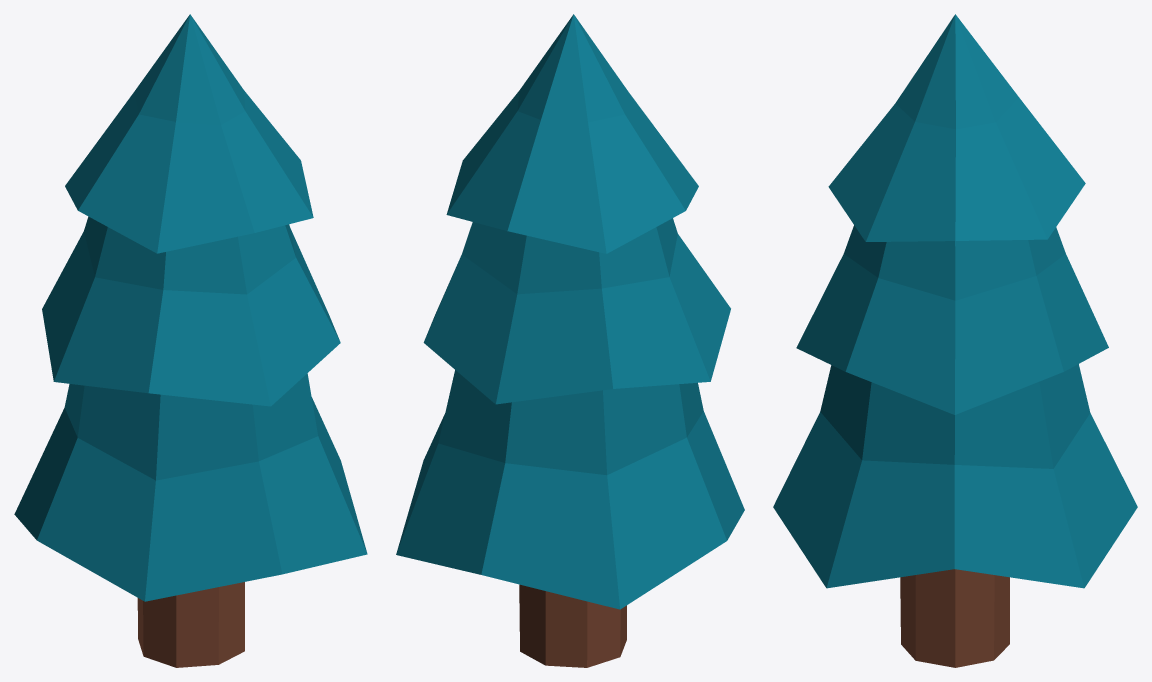
Rendered from Tree_01_summer_blue_vc.fbx.
The picture shows the model from 3 angles, left to right: view 1: azimuth 30°, elevation 25°; view 2: azimuth 150°, elevation 25°; view 3: azimuth 270°, elevation 25°; orthographic projection.
Visible parts, largest first — view 1: Tree_01_summer_blue_vc; view 2: Tree_01_summer_blue_vc; view 3: Tree_01_summer_blue_vc.
Part boxes in pixels (left/top/right/bottom): Tree_01_summer_blue_vc: left=14, top=14, right=367, bottom=667; Tree_01_summer_blue_vc: left=396, top=14, right=744, bottom=667; Tree_01_summer_blue_vc: left=773, top=14, right=1137, bottom=667.
Bounding box in the file's own units: 83.22 × 165 × 86.78.
